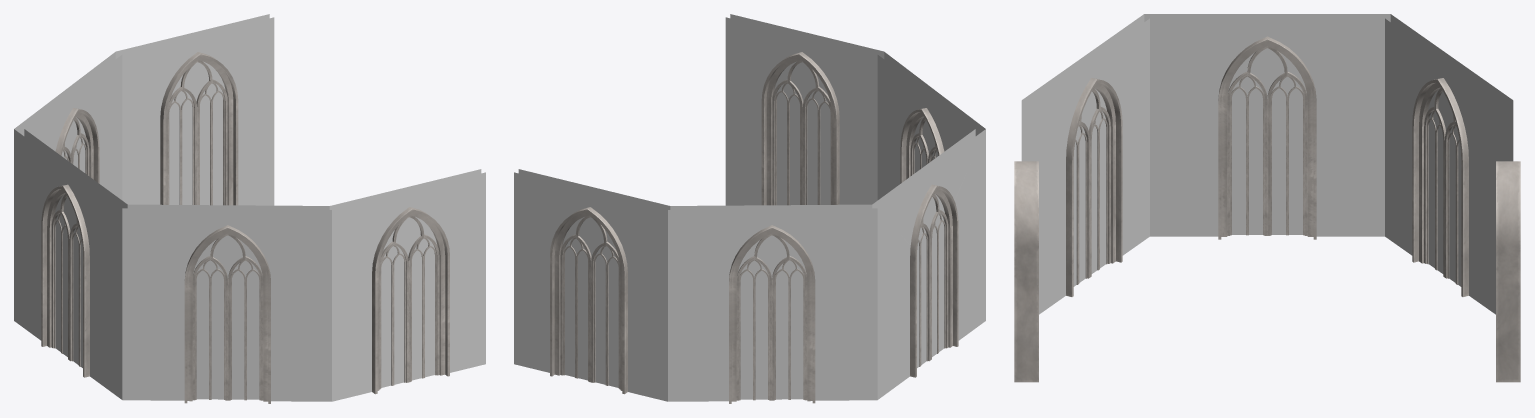
File: Ambulatory_Inner_A_C.fbx
3 views of the same model, side by side, from view 1: azimuth 30°, elevation 25°; view 2: azimuth 150°, elevation 25°; view 3: azimuth 270°, elevation 25° (orthographic). The views are drawn at different scales.
Parts seen in each view (by area): view 1: Ambulatory_Inner_A_C; view 2: Ambulatory_Inner_A_C; view 3: Ambulatory_Inner_A_C.
Part boxes in pixels (left/top/right/bottom): Ambulatory_Inner_A_C: left=14, top=14, right=485, bottom=403; Ambulatory_Inner_A_C: left=514, top=14, right=985, bottom=403; Ambulatory_Inner_A_C: left=1014, top=14, right=1520, bottom=382.
Bounding box in the file's own units: 10.31 × 12.61 × 6.
